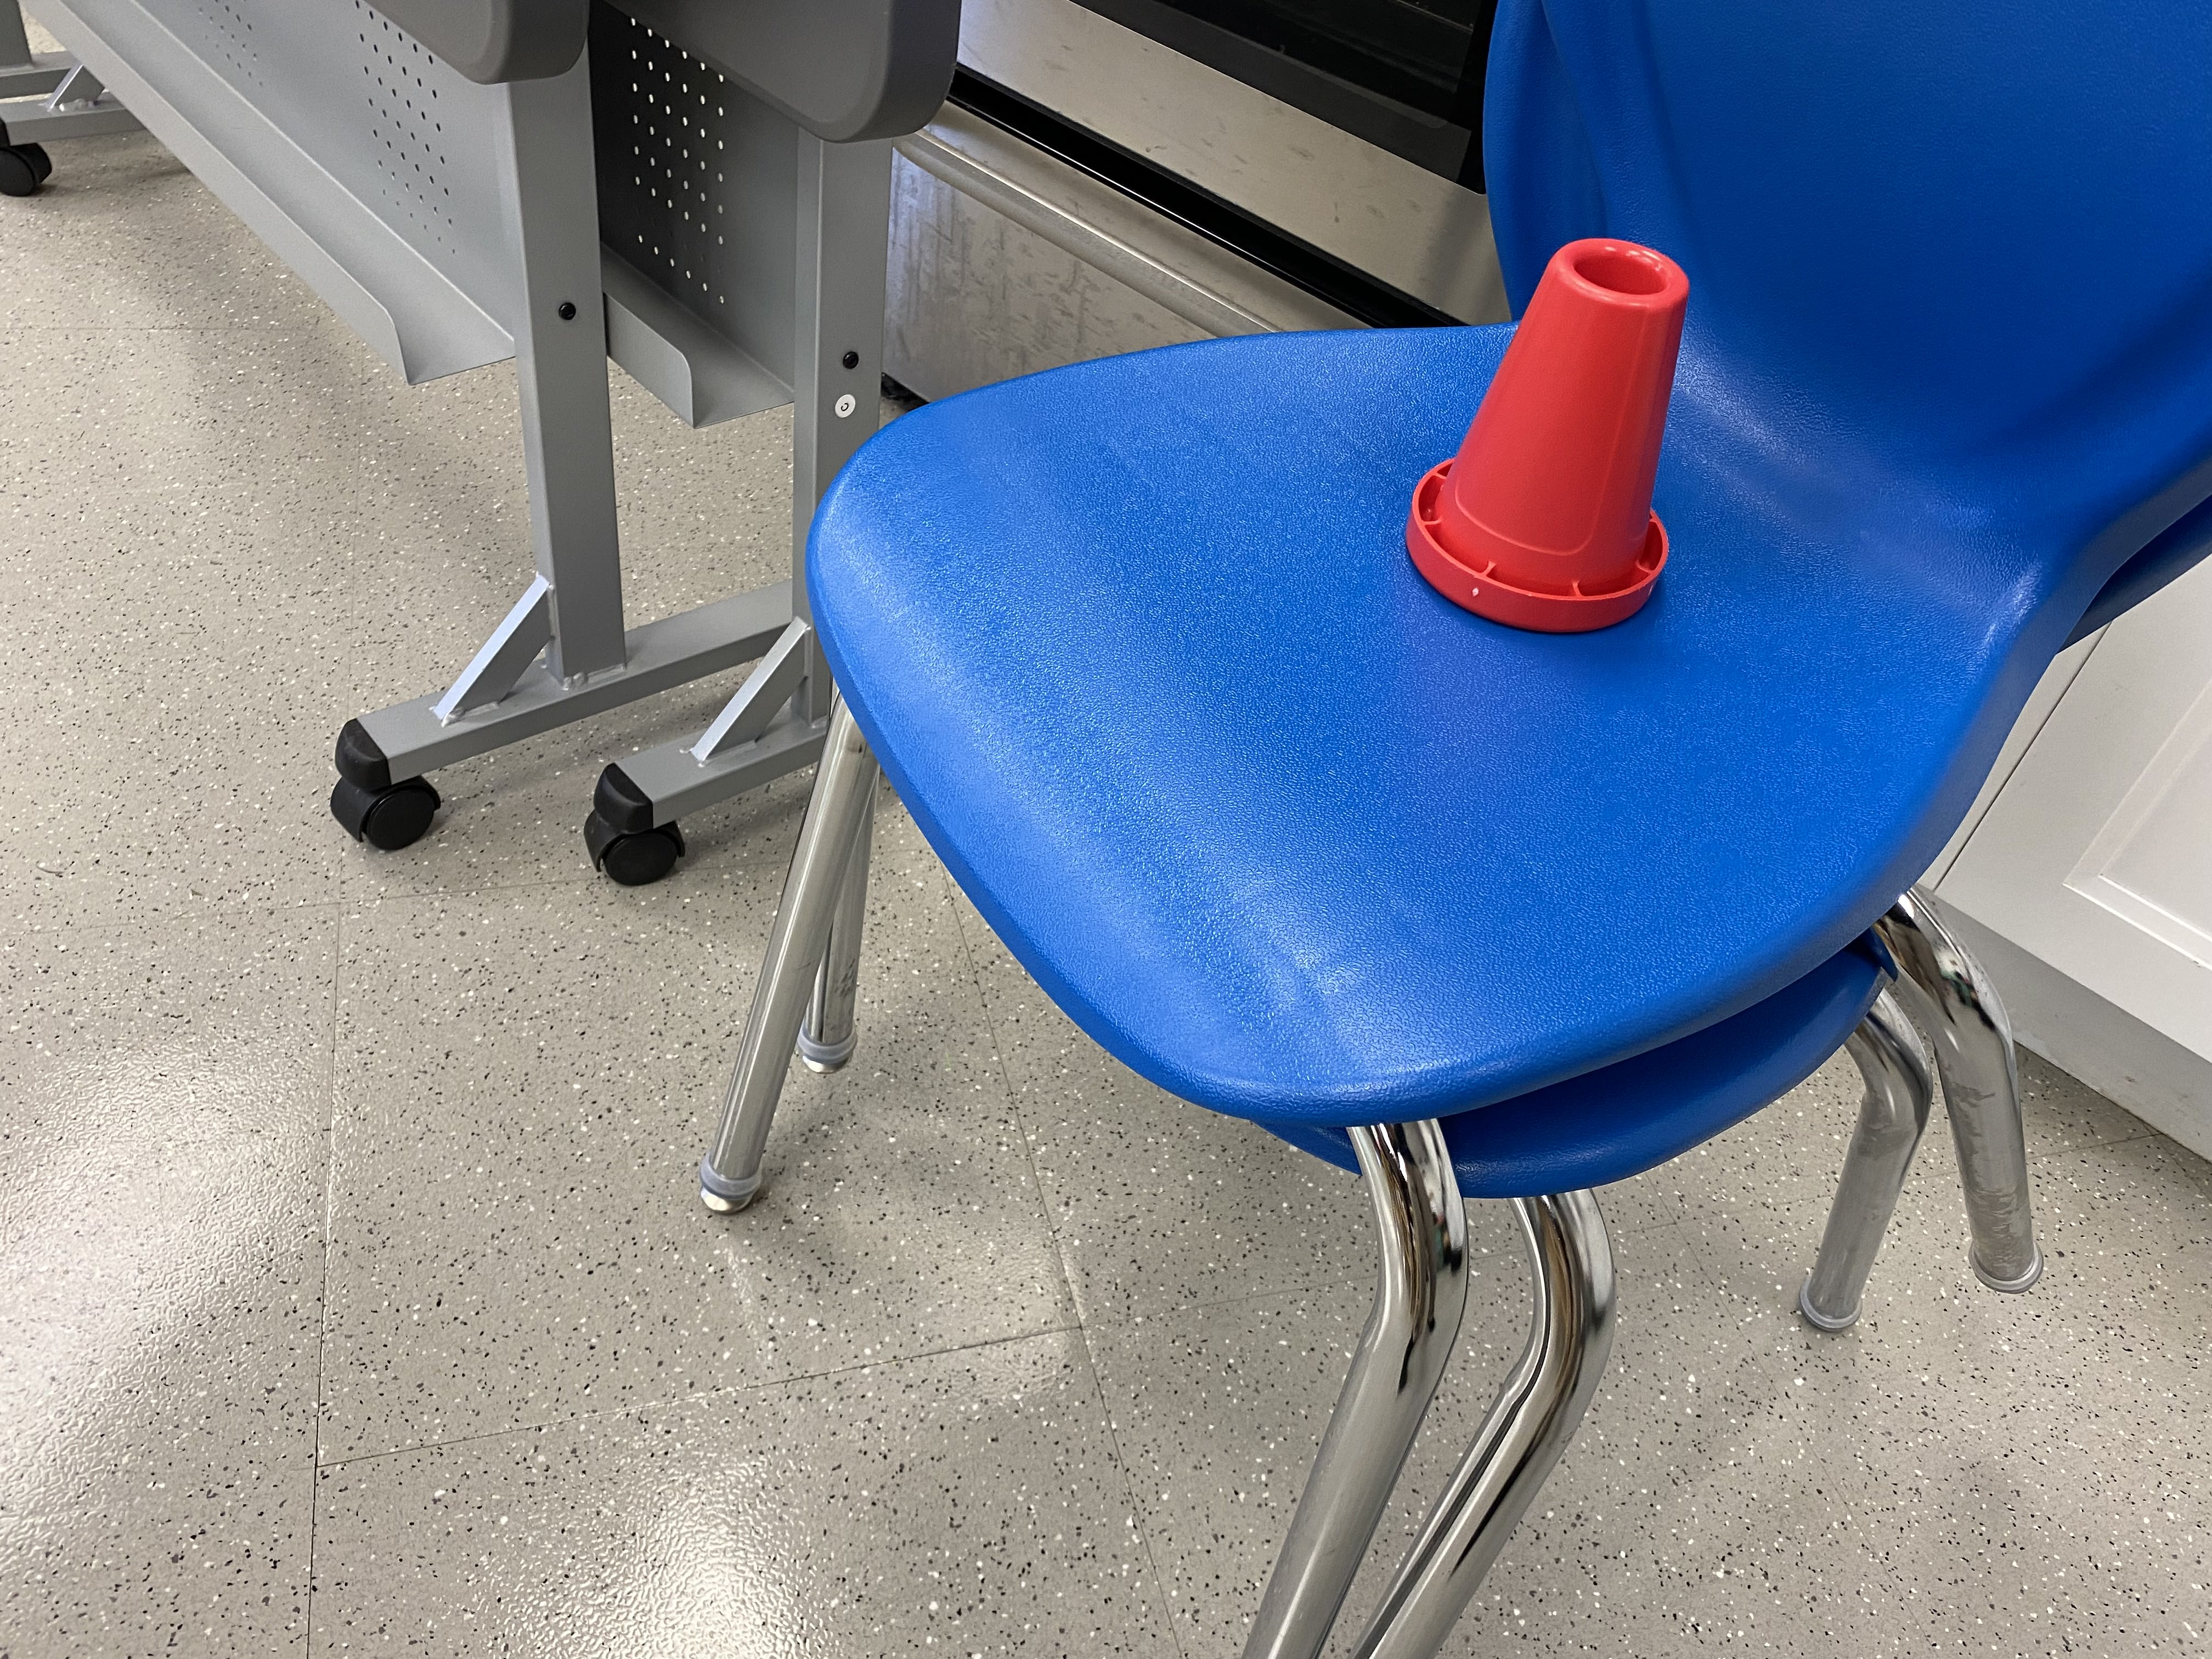redCone: (1395, 230, 1702, 643)
